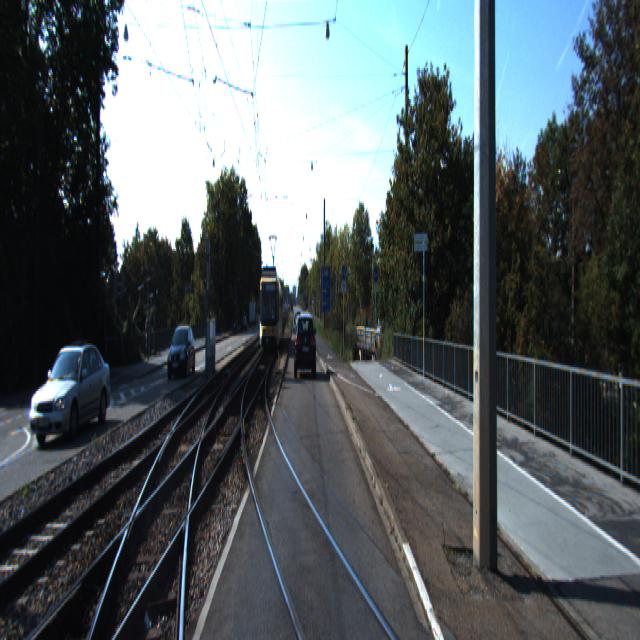Car: (29, 334, 114, 446), (257, 255, 284, 349), (165, 322, 198, 379), (295, 310, 315, 374)
